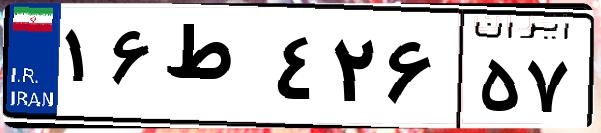1: (57, 26, 110, 100)
2: (330, 28, 385, 110)
4: (270, 28, 330, 110)
5: (475, 38, 525, 113)
6: (385, 28, 445, 110), (110, 28, 158, 98)
7: (525, 38, 570, 115)
ط: (158, 20, 270, 120)
